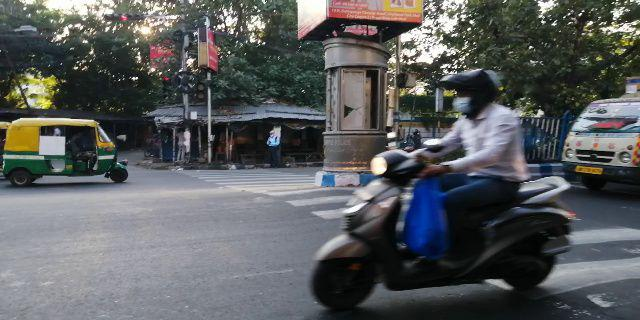Autorickshaw: (2, 114, 133, 191)
Minitruck: (557, 89, 639, 192)
Motorbike: (303, 74, 577, 309)
